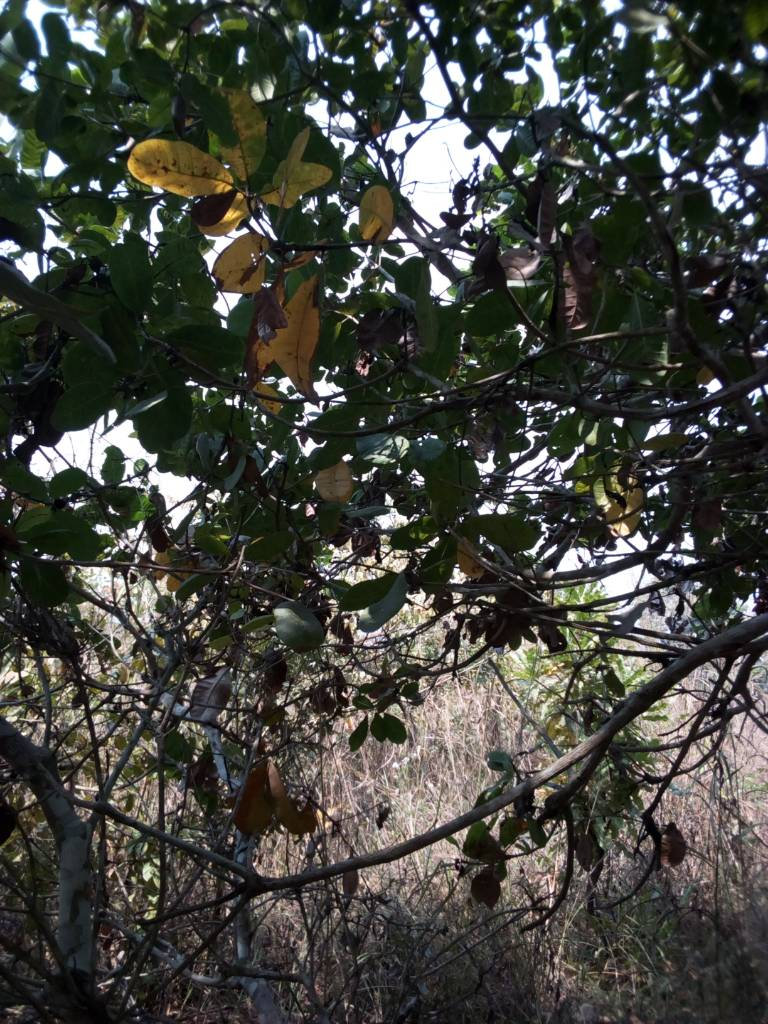Bactériose: (121, 136, 243, 199), (274, 271, 325, 405), (207, 232, 269, 292)
